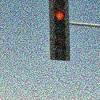traffic lights: (49, 0, 70, 62)
